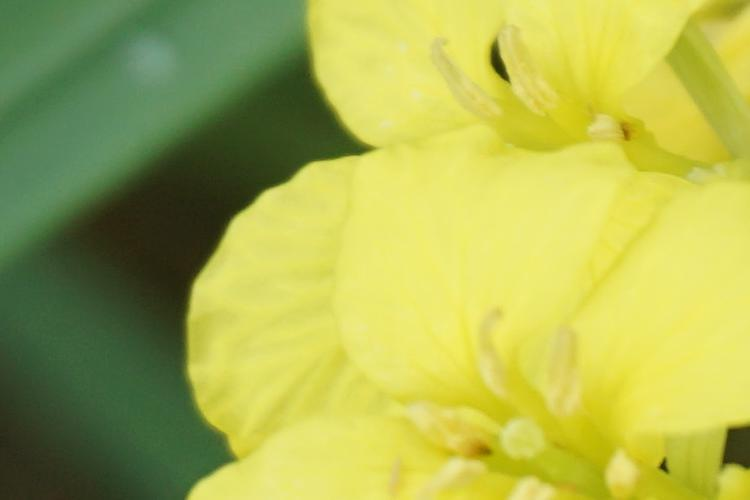yellow: (214, 133, 742, 500), (309, 5, 746, 189)
